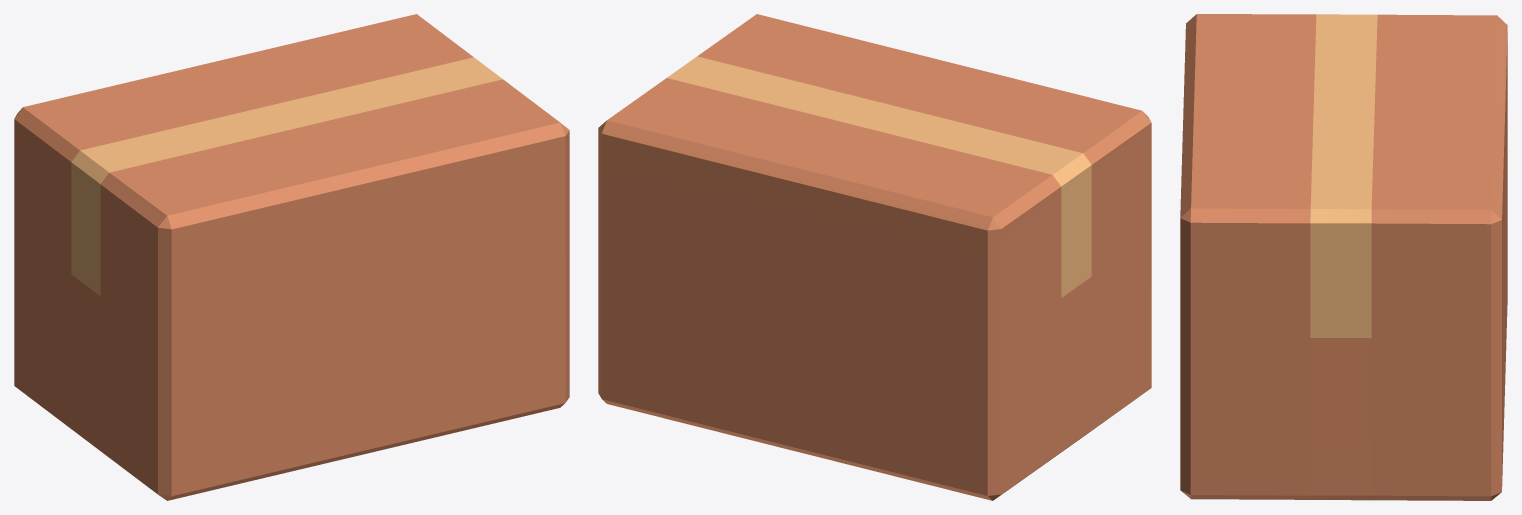
Rendered from cardboard_box7.fbx.
3 views of the same model, side by side, from view 1: azimuth 30°, elevation 25°; view 2: azimuth 150°, elevation 25°; view 3: azimuth 270°, elevation 25° (orthographic). The views are drawn at different scales.
Visible parts, largest first — view 1: cardboard_box7; view 2: cardboard_box7; view 3: cardboard_box7.
Part boxes in pixels (left/top/right/bottom): cardboard_box7: left=14, top=14, right=569, bottom=500; cardboard_box7: left=598, top=14, right=1151, bottom=500; cardboard_box7: left=1180, top=14, right=1507, bottom=500.
Size of the model in its own units: 29.47 by 19.51 by 19.9.
